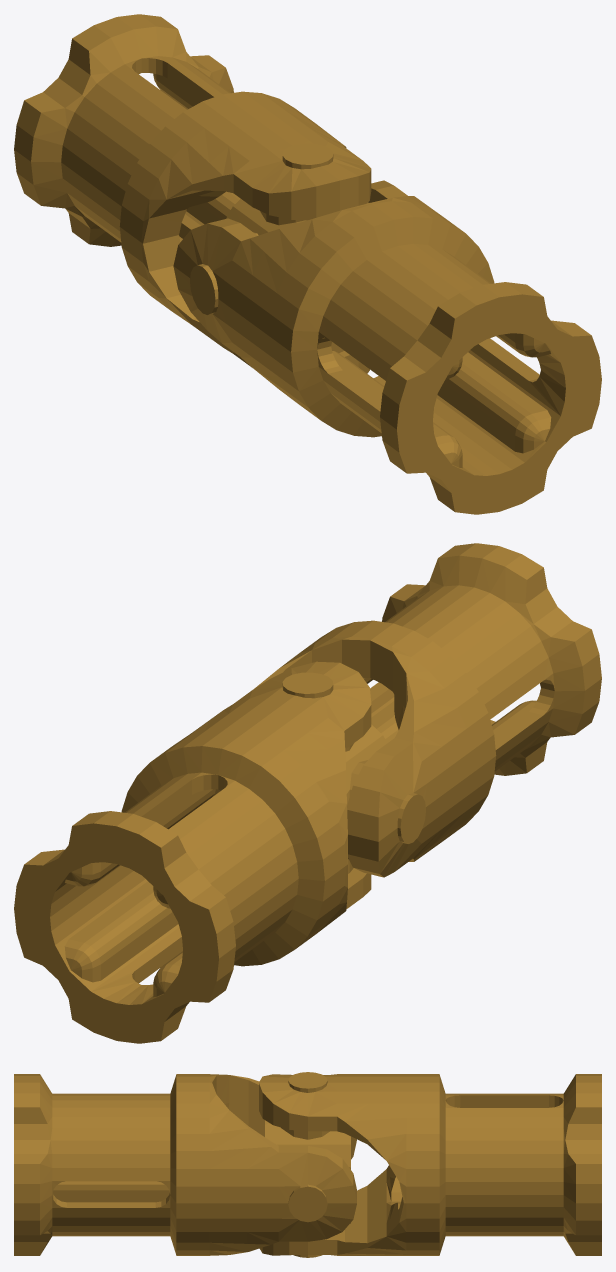
Rendered from UniversalJoint.dae.
3 views of the same model, one above another, from view 1: azimuth 30°, elevation 25°; view 2: azimuth 150°, elevation 25°; view 3: azimuth 270°, elevation 25° (orthographic). The views are drawn at different scales.
Visible parts, largest first — view 1: Part_62520.1, Part_62520.3, Part_3326.2; view 2: Part_62520.3, Part_62520.1, Part_3326.2; view 3: Part_62520.1, Part_62520.3, Part_3326.2.
Part boxes in pixels (x1,y1,x2,y2): Part_62520.1: (173,180,601,514); Part_62520.3: (14,14,371,373); Part_3326.2: (190,143,368,352); Part_62520.3: (14,661,371,1043); Part_62520.1: (254,543,601,877); Part_3326.2: (282,672,425,873); Part_62520.1: (14,1074,356,1255); Part_62520.3: (259,1074,601,1255); Part_3326.2: (265,1072,350,1257).
Bounding box in the file's own units: 7.6 × 7.6 × 23.92.
